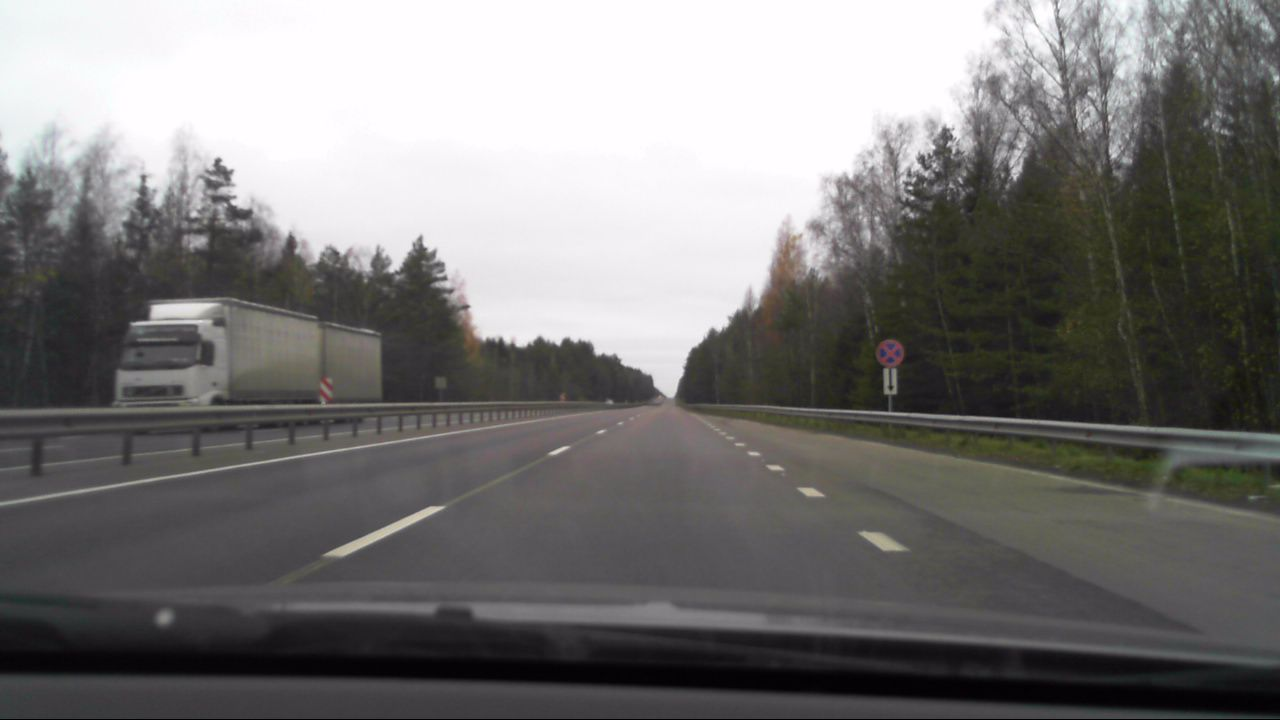No Parking: (875, 339, 905, 368)
